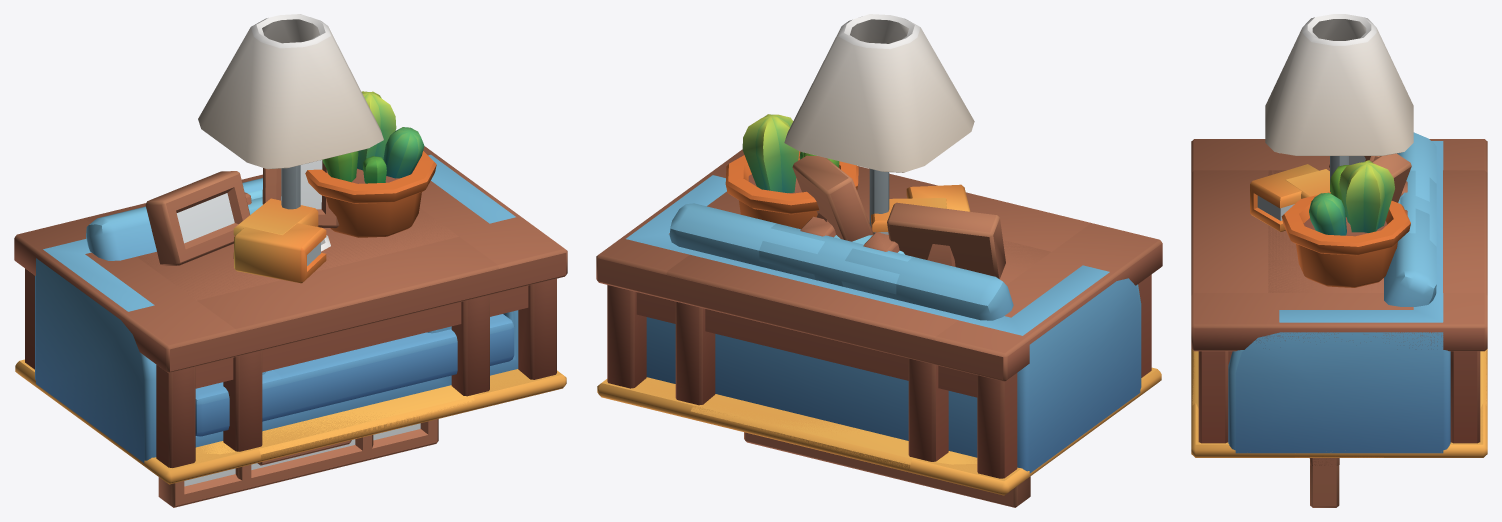
File: furniture.glb
The picture shows the model from 3 angles, left to right: view 1: azimuth 30°, elevation 25°; view 2: azimuth 150°, elevation 25°; view 3: azimuth 270°, elevation 25°; orthographic projection. The views are drawn at different scales.
Parts seen in each view (by area): view 1: table_medium_long, couch, table_medium, lamp_standing, cabinet_medium_decorated, rug_rectangle_A, cabinet_small_decorated, cabinet_medium, rug_oval_A, pictureframe_large_B, armchair, pictureframe_large_A (+1 smaller); view 2: couch, table_medium_long, lamp_standing, table_medium, cabinet_medium_decorated, rug_rectangle_A, cabinet_small_decorated, rug_oval_A, armchair, rug_rectangle_stripes_A, pictureframe_large_B, cabinet_medium (+2 smaller); view 3: couch, table_medium_long, lamp_standing, table_medium, cabinet_medium_decorated, cabinet_small_decorated, rug_rectangle_A, cabinet_medium, pictureframe_large_B, armchair, rug_oval_A.
Boxes of the visible parts, box(x1,y1,x2,y2) form: table_medium_long: box(14, 146, 567, 467); couch: box(35, 154, 518, 462); table_medium: box(84, 174, 499, 451); lamp_standing: box(198, 14, 383, 209); cabinet_medium_decorated: box(145, 91, 436, 266); rug_rectangle_A: box(15, 359, 566, 484); cabinet_small_decorated: box(234, 160, 339, 283); cabinet_medium: box(138, 208, 458, 300); rug_oval_A: box(73, 385, 483, 462); pictureframe_large_B: box(158, 419, 438, 507); armchair: box(242, 178, 451, 431); pictureframe_large_A: box(235, 435, 373, 489); couch: box(626, 175, 1141, 473); table_medium_long: box(596, 149, 1162, 478); lamp_standing: box(784, 14, 974, 233); table_medium: box(666, 166, 1090, 461); cabinet_medium_decorated: box(725, 114, 1005, 279); rug_rectangle_A: box(597, 367, 1161, 495); cabinet_small_decorated: box(792, 155, 970, 241); rug_oval_A: box(645, 377, 1108, 469); armchair: box(759, 223, 912, 294); rug_rectangle_stripes_A: box(602, 368, 1156, 480); pictureframe_large_B: box(744, 432, 1030, 507); cabinet_medium: box(1000, 240, 1050, 284); couch: box(1228, 132, 1450, 453); table_medium_long: box(1191, 139, 1487, 443); lamp_standing: box(1265, 14, 1413, 191); table_medium: box(1191, 170, 1487, 295); cabinet_medium_decorated: box(1281, 156, 1410, 287); cabinet_small_decorated: box(1250, 153, 1411, 231); rug_rectangle_A: box(1191, 349, 1487, 457); cabinet_medium: box(1268, 170, 1383, 292); pictureframe_large_B: box(1310, 458, 1339, 507); armchair: box(1400, 170, 1436, 246); rug_oval_A: box(1192, 350, 1486, 457).
Size of the model in its own units: 3 by 3.12 by 2.
1 material, 1 textured.
